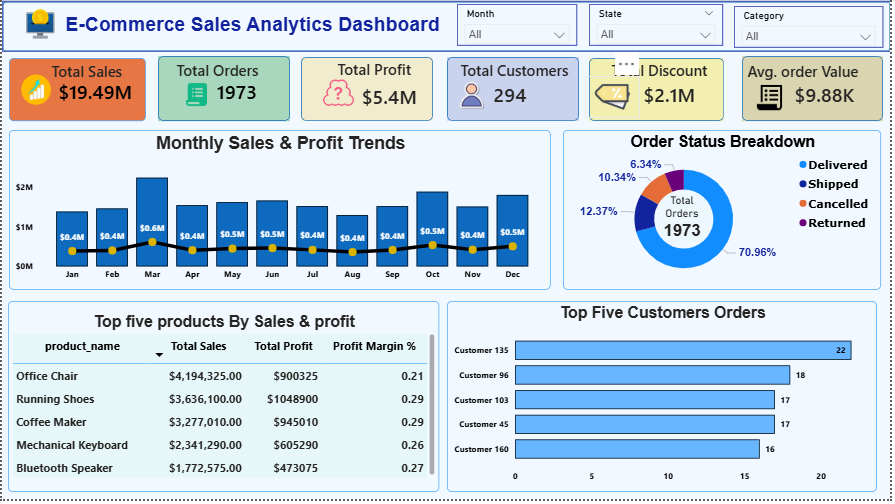

The page's visual inventory and layout, read from the dashboard file:
{"tool":"powerbi","page":{"name":"SALES DASHBOARD","canvas":[1280,720],"ordinal":0},"visuals":[{"type":"card","title":"Total Orders","fields":{"Values":["measures-table.Total Orders"]},"box":[931.7,280.8,95,67.7],"z":0},{"type":"shape","box":[1065.6,82.1,203,93.6],"z":1000},{"type":"shape","box":[640.8,83.5,190.1,92.2],"z":2000},{"type":"shape","box":[845.3,85,194.4,90.7],"z":3000},{"type":"shape","box":[430.6,83.5,190.1,92.2],"z":4000},{"type":"shape","box":[224.6,82.1,190.1,93.6],"z":5000},{"type":"shape","box":[0,2.9,1280.2,73.4],"z":6000},{"type":"shape","box":[10.1,85,197.3,90.7],"z":7000},{"type":"card","fields":{"Values":["measures-table.Total Sales"]},"box":[74.9,103.7,119.5,60.5],"z":8000},{"type":"card","fields":{"Values":["measures-table.Average Order Value"]},"box":[1100.2,108,168.5,60.5],"z":9000},{"type":"card","fields":{"Values":["measures-table.Total Customers"]},"box":[684,102.2,95,73.4],"z":10000},{"type":"card","fields":{"Values":["measures-table.Total Orders"]},"box":[262.1,108,152.6,51.8],"z":11000},{"type":"card","fields":{"Values":["measures-table.Total Discount"]},"box":[874.1,109.4,174.2,59],"z":12000},{"type":"card","fields":{"Values":["measures-table.Total Profit"]},"box":[495.4,112.3,125.3,59],"z":13000},{"type":"textbox","title":"E-Commerce Sales Analytics Dashboard","box":[86.4,21.6,553,37.4],"z":14000},{"type":"textbox","title":"Total Sales","box":[66.2,89.3,128.2,37.4],"z":15000},{"type":"lineStackedColumnComboChart","title":"Monthly Sales & Profit Trends","fields":{"Category":["DateTable.Month"],"Y":["measures-table.Total Sales"],"Y2":["measures-table.Total Profit"]},"box":[10.1,188.6,780.5,230.4],"z":16000},{"type":"tableEx","title":"Top five products By Sales & profit","fields":{"Values":["vw_sales.product_name","measures-table.Total Sales","measures-table.Total Profit","measures-table.Profit Margin %"]},"box":[8.6,434.9,620.6,275],"z":17000},{"type":"slicer","fields":{"Values":["DateTable.Month"]},"box":[655.2,7.2,172.8,60.5],"z":19000},{"type":"donutChart","title":"Order Status Breakdown","fields":{"Category":["vw_sales.order_status"],"Y":["measures-table.Total Orders"]},"box":[807.8,188.6,457.9,230.4],"z":19500},{"type":"slicer","fields":{"Values":["vw_sales.state"]},"box":[845.3,7.2,193,60.5],"z":20000},{"type":"slicer","fields":{"Values":["vw_sales.category"]},"box":[1054.1,10.1,214.6,60.5],"z":21000},{"type":"textbox","title":"Total Orders","box":[246.9,87.3,149.5,37],"z":22000},{"type":"textbox","title":"Total Profit","box":[478.1,86.4,161.3,37.4],"z":23000},{"type":"textbox","title":"Total Customers","box":[655.2,87.8,182.9,36],"z":24000},{"type":"textbox","title":"Total Discount","box":[872.6,87.8,164.2,36],"z":25000},{"type":"textbox","title":"Avg. order Value","box":[1068.5,89.3,180,36],"z":26000},{"type":"clusteredBarChart","title":"Top Five Customers Orders","fields":{"Category":["vw_sales.customer_name"],"Y":["measures-table.Total Orders"]},"box":[640.8,434.9,619.2,275],"z":27000},{"type":"image","box":[1065.6,119.5,79.2,44.6],"z":28000},{"type":"image","box":[243.4,116.6,76.3,41.8],"z":29000},{"type":"image","box":[453.6,112.3,61.9,46.1],"z":30000},{"type":"image","box":[23,108,51.8,44.6],"z":31000},{"type":"image","box":[646.6,115.2,59,46.1],"z":32000},{"type":"image","box":[839.5,110.9,79.2,60.5],"z":33000},{"type":"image","box":[23,11.5,63.4,51.8],"z":34000}]}

Visuals, with their boxes in screenshot pixels (x1, y1, x2, y2), scaled from the page's 1280x720 canvas onto the 895x504 screenshot:
"Total Orders" card: detection(651, 197, 718, 244)
shape: detection(745, 57, 887, 123)
shape: detection(448, 58, 581, 123)
shape: detection(591, 59, 727, 123)
shape: detection(301, 58, 434, 123)
shape: detection(157, 57, 290, 123)
shape: detection(0, 2, 894, 53)
shape: detection(7, 59, 145, 123)
card - measures-table.Total Sales: detection(52, 73, 136, 115)
card - measures-table.Average Order Value: detection(769, 76, 887, 118)
card - measures-table.Total Customers: detection(478, 72, 545, 123)
card - measures-table.Total Orders: detection(183, 76, 290, 112)
card - measures-table.Total Discount: detection(611, 77, 733, 118)
card - measures-table.Total Profit: detection(346, 79, 434, 120)
"E-Commerce Sales Analytics Dashboard" textbox: detection(60, 15, 447, 41)
"Total Sales" textbox: detection(46, 63, 136, 89)
"Monthly Sales & Profit Trends" lineStackedColumnComboChart: detection(7, 132, 553, 293)
"Top five products By Sales & profit" tableEx: detection(6, 304, 440, 497)
slicer - DateTable.Month: detection(458, 5, 579, 47)
"Order Status Breakdown" donutChart: detection(565, 132, 885, 293)
slicer - vw_sales.state: detection(591, 5, 726, 47)
slicer - vw_sales.category: detection(737, 7, 887, 49)
"Total Orders" textbox: detection(173, 61, 277, 87)
"Total Profit" textbox: detection(334, 60, 447, 87)
"Total Customers" textbox: detection(458, 61, 586, 87)
"Total Discount" textbox: detection(610, 61, 725, 87)
"Avg. order Value" textbox: detection(747, 63, 873, 88)
"Top Five Customers Orders" clusteredBarChart: detection(448, 304, 881, 497)
image: detection(745, 84, 800, 115)
image: detection(170, 82, 224, 111)
image: detection(317, 79, 360, 111)
image: detection(16, 76, 52, 107)
image: detection(452, 81, 493, 113)
image: detection(587, 78, 642, 120)
image: detection(16, 8, 60, 44)
